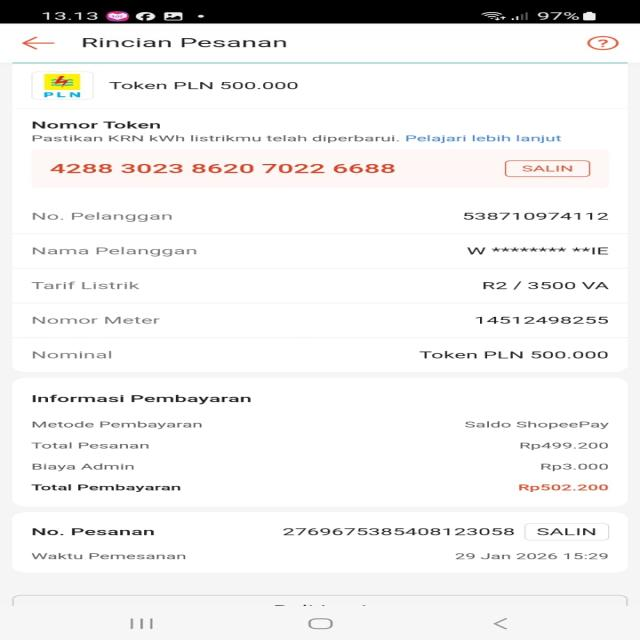date: (442, 548, 618, 566)
store: (98, 78, 320, 96)
total: (12, 478, 626, 497)
